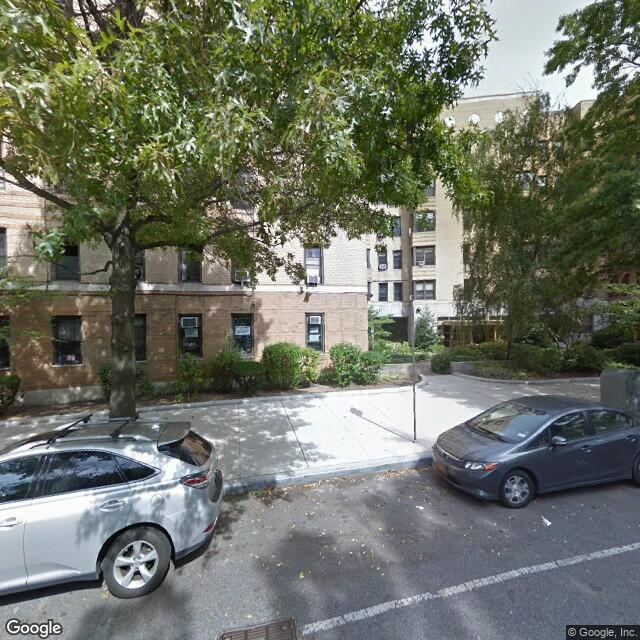litter: (415, 501, 429, 512), (540, 516, 551, 525), (375, 565, 382, 568)
